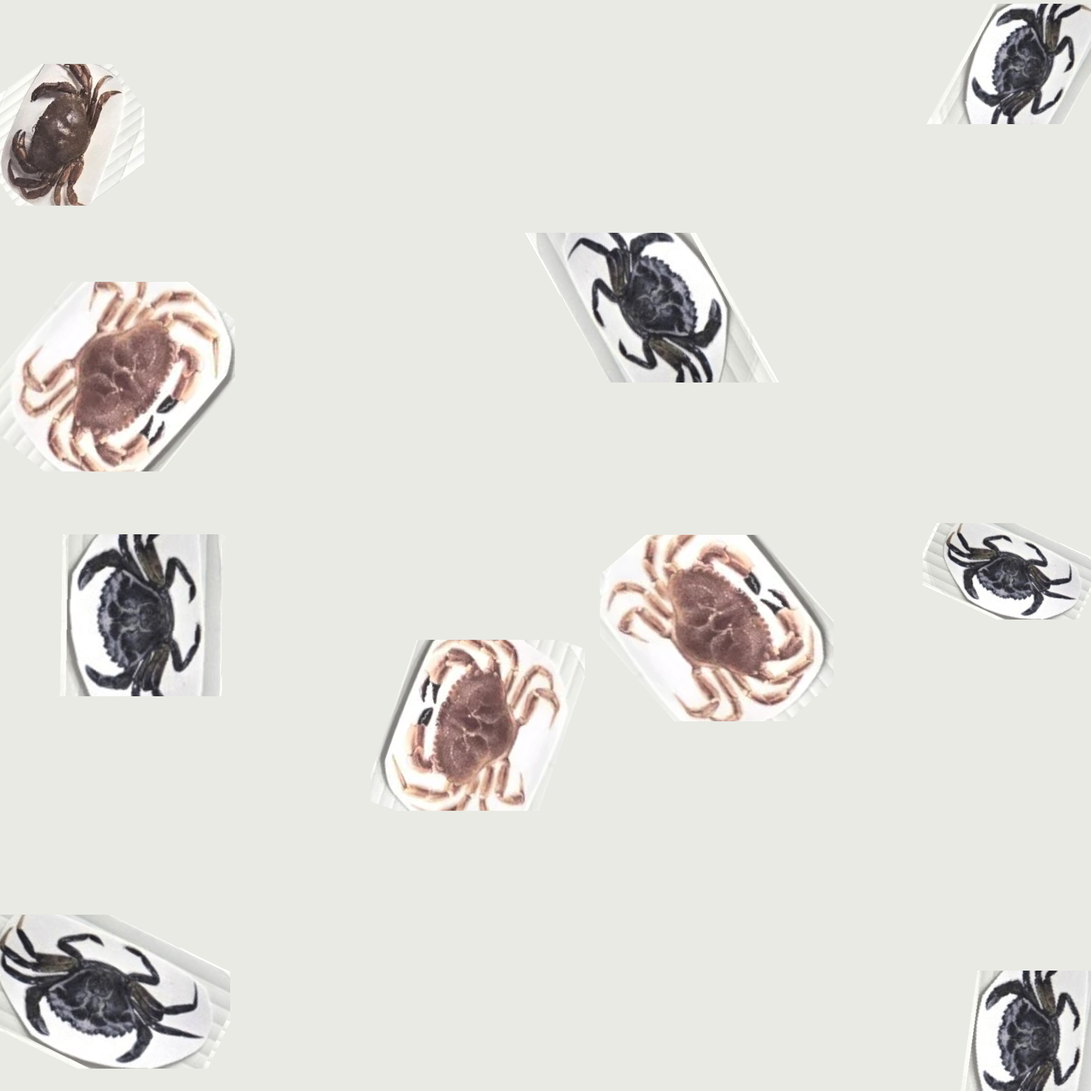evil: (541, 232, 759, 427), (12, 915, 223, 1091), (71, 531, 228, 716), (915, 508, 1091, 645), (953, 0, 1091, 138), (968, 977, 1091, 1091)
normal: (398, 631, 574, 854), (38, 285, 223, 493), (631, 531, 816, 735), (5, 52, 166, 228)
